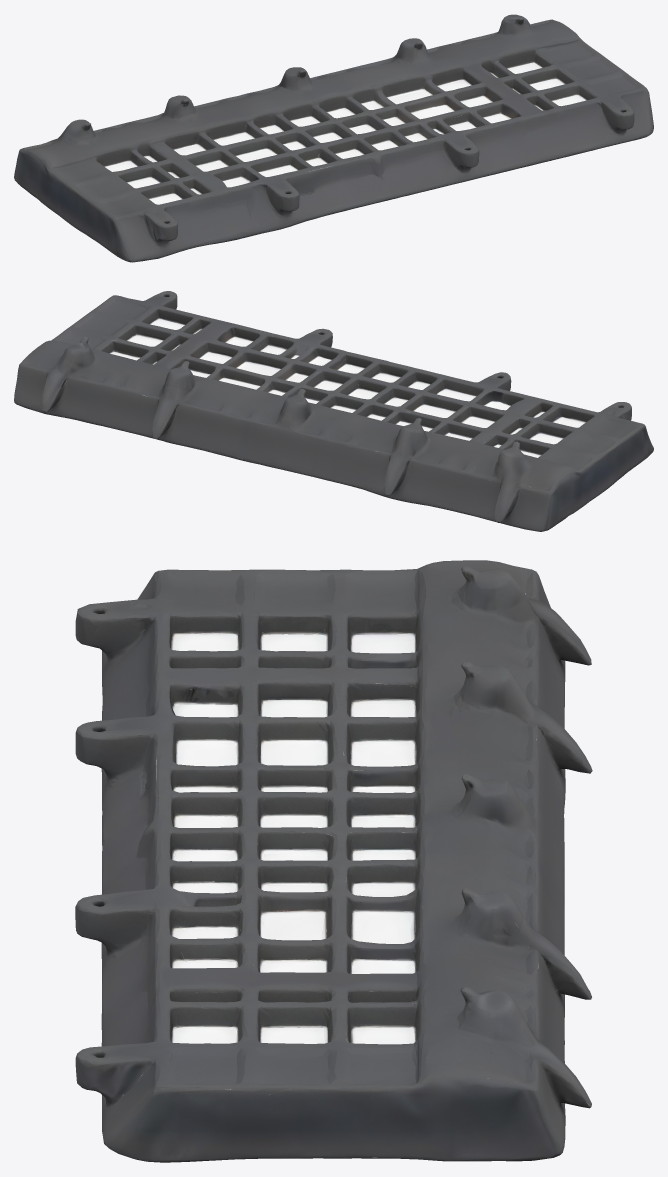
File: 3d-mechanical-keyboard-plate.glb
3 views of the same model, one above another, from view 1: azimuth 30°, elevation 25°; view 2: azimuth 150°, elevation 25°; view 3: azimuth 270°, elevation 25° (orthographic). The views are drawn at different scales.
Visible parts, largest first — view 1: Mesh; view 2: Mesh; view 3: Mesh.
Part boxes in pixels (<box>): Mesh: <box>14,14,653,262</box>; Mesh: <box>14,291,653,531</box>; Mesh: <box>75,560,592,1162</box>.
Bounding box in the file's own units: 1.9 × 0.22 × 0.7976.
1 material, 1 textured.
